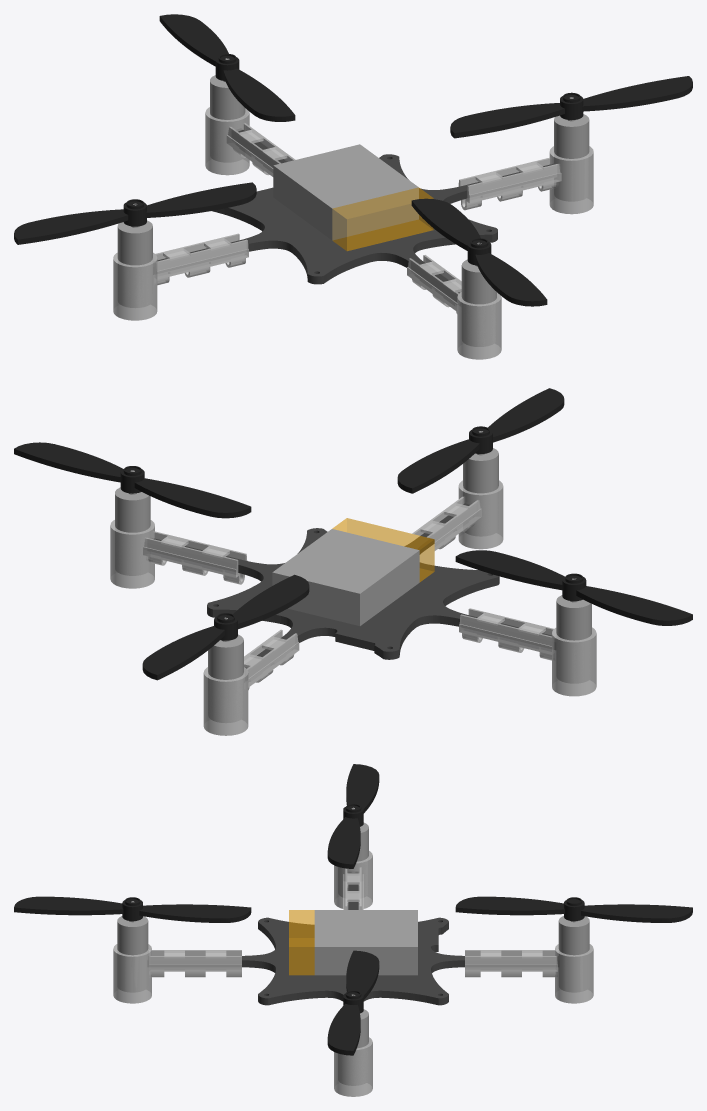
Rendered from crazyflie.dae.
3 renders of one model, top to bottom at view 1: azimuth 30°, elevation 25°; view 2: azimuth 150°, elevation 25°; view 3: azimuth 270°, elevation 25°, orthographic. The views are drawn at different scales.
Parts seen in each view (by area): view 1: Group_89 (×8), group_14, group_3, group_4 (×4), group_7 (×4), group_5 (×4), group_2; view 2: Group_89 (×8), group_7 (×4), group_14, group_4 (×4), group_5 (×4), group_3, group_2; view 3: Group_89 (×8), group_14, group_4 (×4), group_3, group_7 (×4), group_5 (×3), group_2.
Part boxes in pixels (bbox=[...]): Group_89 (×8): bbox=[14, 14, 692, 306]; group_14: bbox=[153, 128, 553, 293]; group_3: bbox=[273, 144, 418, 240]; group_4 (×4): bbox=[113, 107, 593, 359]; group_7 (×4): bbox=[117, 75, 589, 346]; group_5 (×4): bbox=[153, 123, 561, 313]; group_2: bbox=[332, 187, 433, 250]; Group_89 (×8): bbox=[14, 388, 692, 680]; group_7 (×4): bbox=[115, 448, 591, 722]; group_14: bbox=[150, 502, 555, 668]; group_4 (×4): bbox=[110, 480, 596, 735]; group_5 (×4): bbox=[143, 496, 555, 689]; group_3: bbox=[272, 529, 419, 625]; group_2: bbox=[332, 518, 434, 581]; Group_89 (×8): bbox=[14, 764, 692, 1055]; group_14: bbox=[147, 871, 559, 1005]; group_4 (×4): bbox=[113, 851, 593, 1096]; group_3: bbox=[314, 910, 417, 975]; group_7 (×4): bbox=[117, 822, 589, 1085]; group_5 (×3): bbox=[149, 867, 557, 977]; group_2: bbox=[289, 910, 314, 975].
Bounding box in the file's own units: 5.18 × 5.18 × 0.7992.
